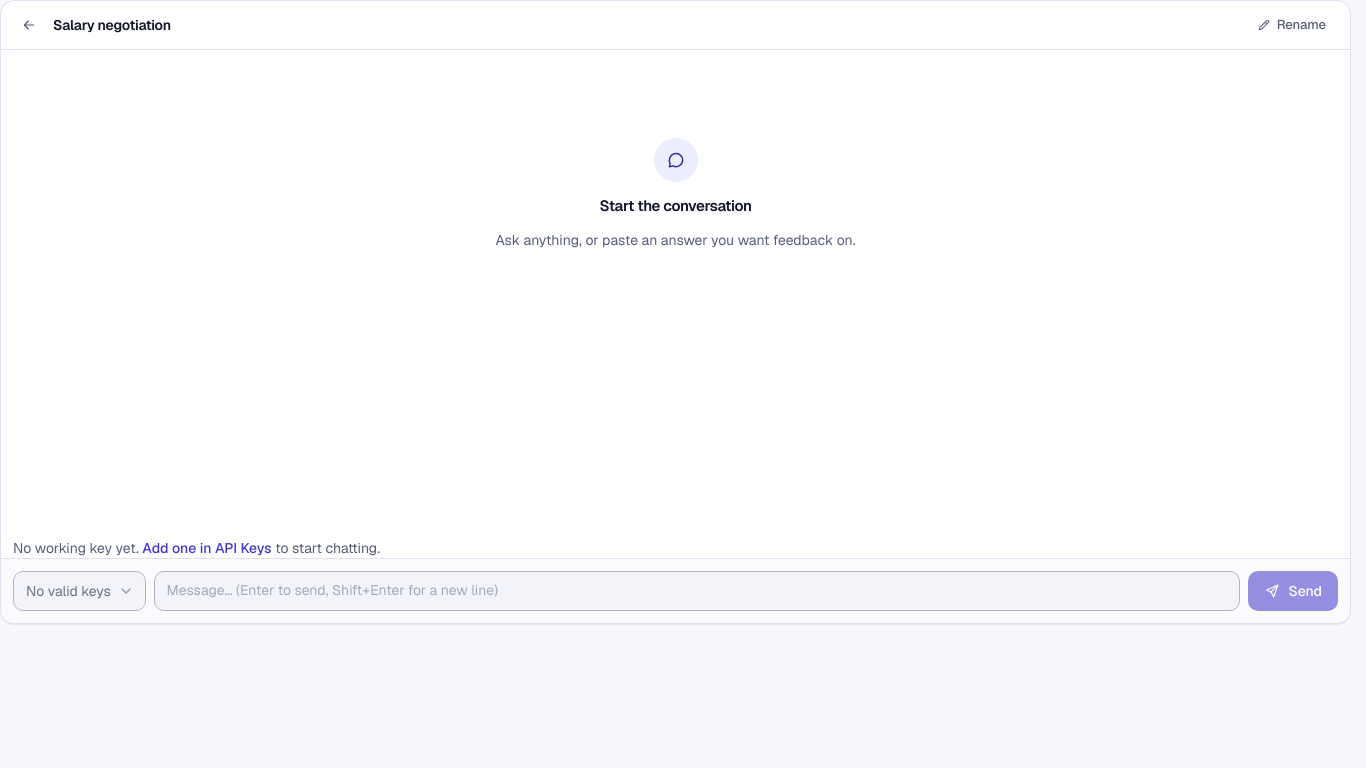
Test: ChatThreadView rename › keeps the old title and shows the error when renaming fails
Click the button with aria-label "Rename this chat" at (1291, 25), box x1=1245 y1=9 x2=1338 y2=41
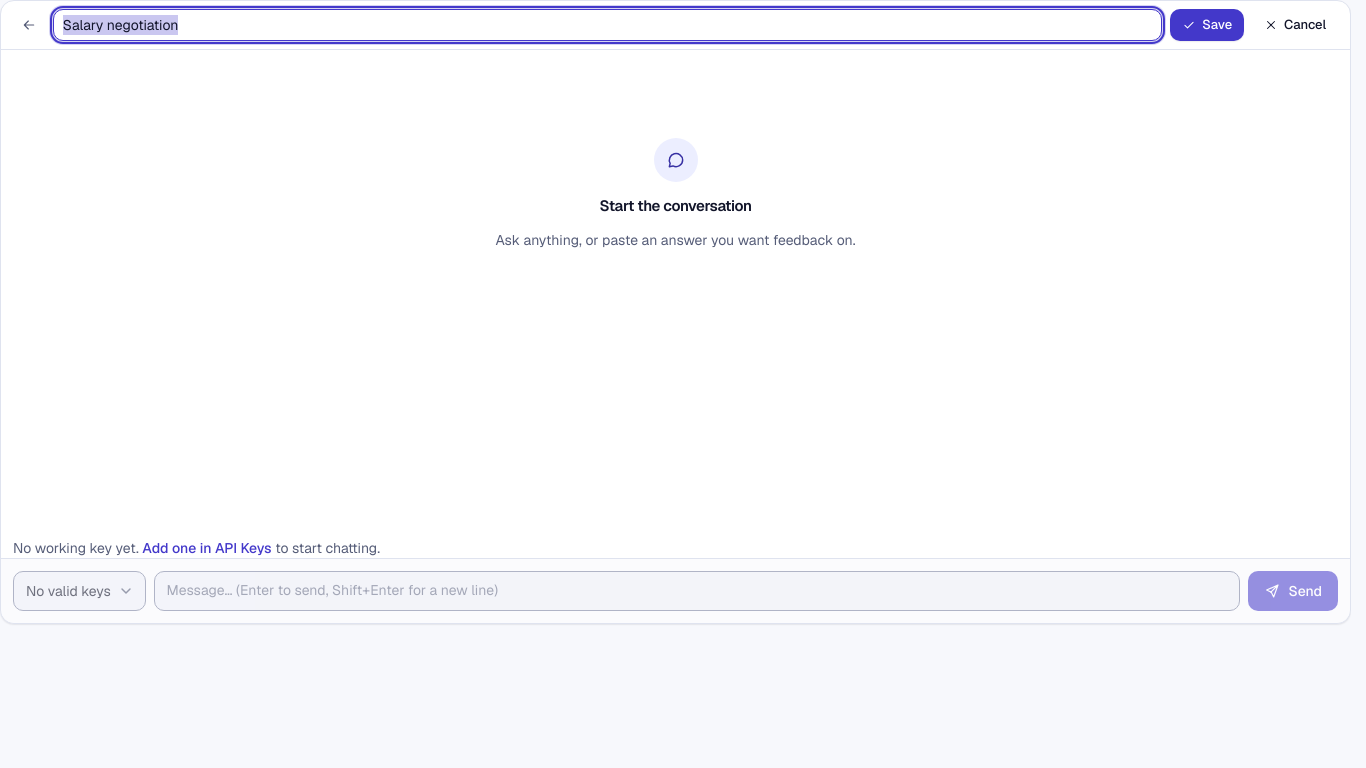
Type "x" into the field named "New title for this chat" at (608, 25), box x1=53 y1=9 x2=1162 y2=41
Then press Enter
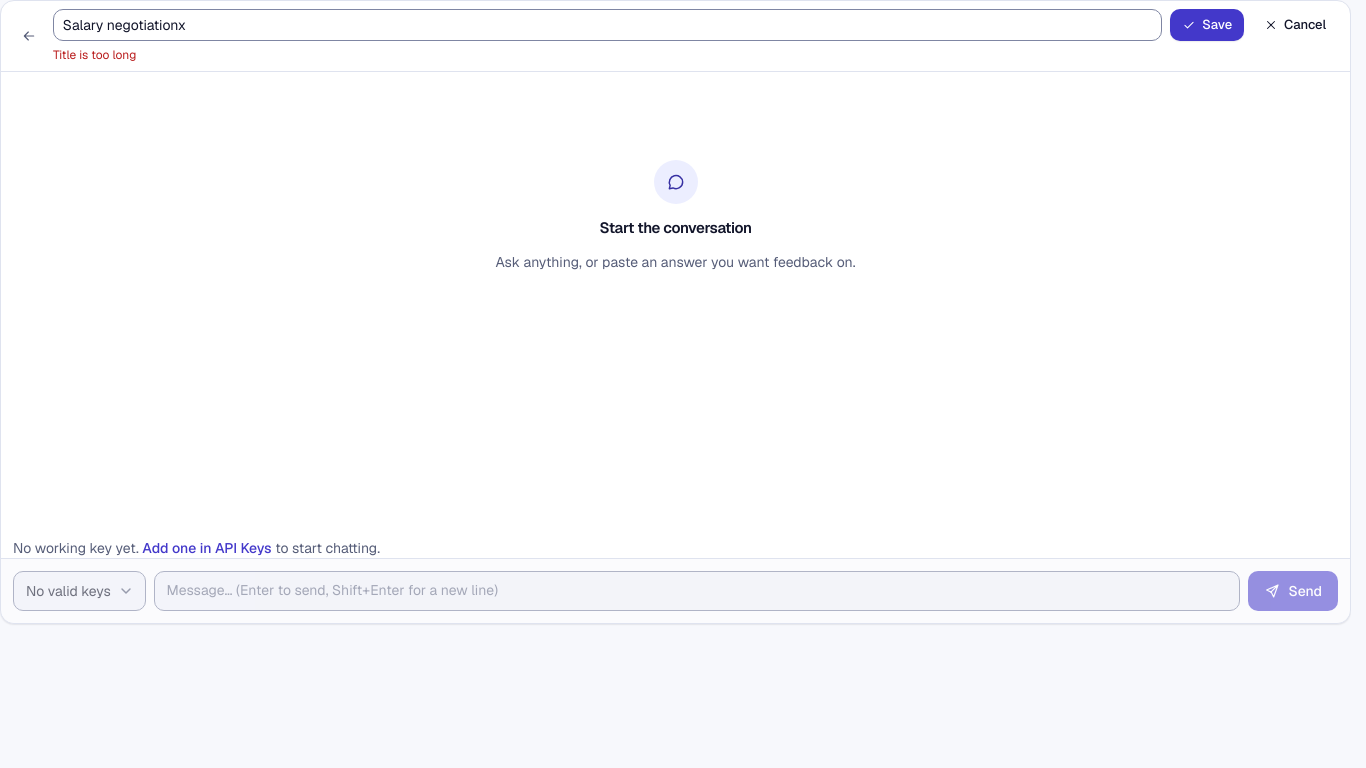
expect the message reads "Title is too long": met, box x1=53 y1=47 x2=136 y2=63
Click the button with aria-label "Cancel rename" at (1295, 25), box x1=1252 y1=9 x2=1338 y2=41
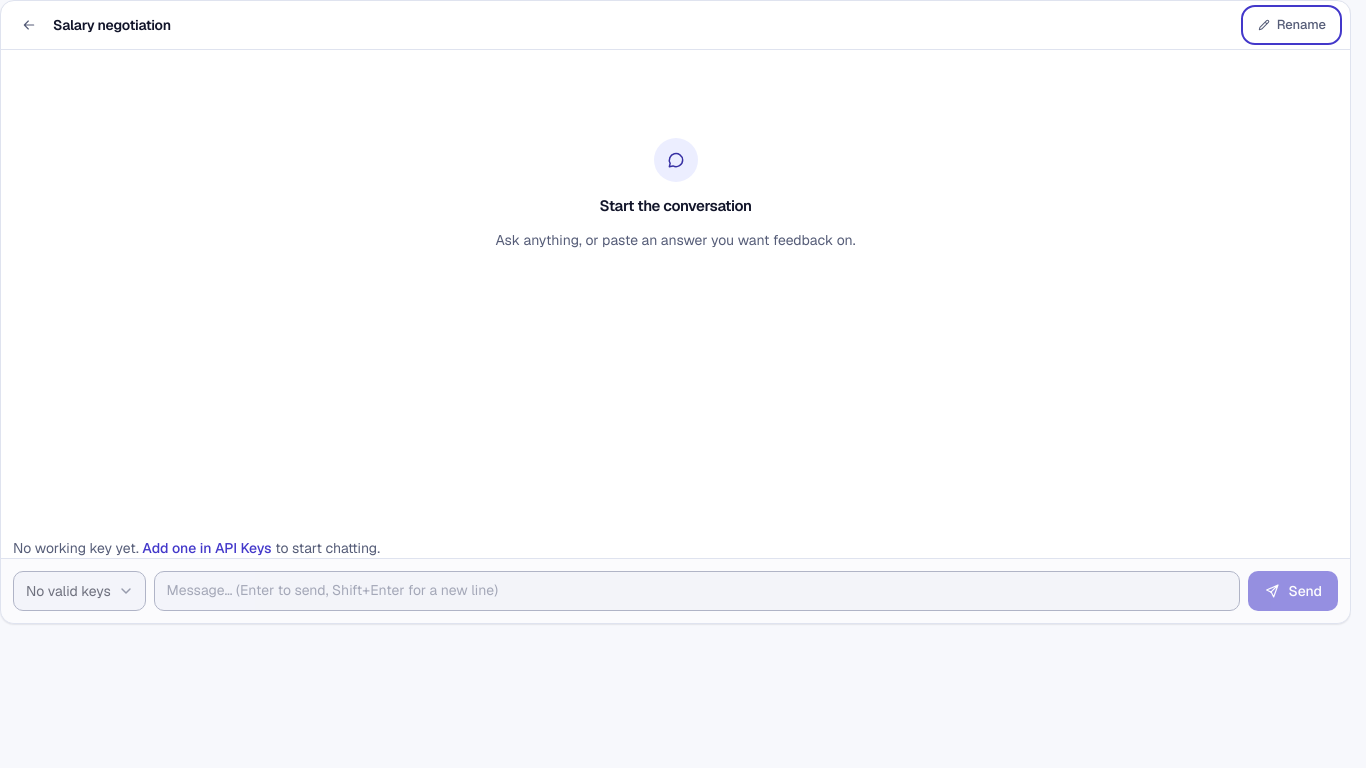
expect the heading "Salary negotiation" is shown: met, box x1=53 y1=16 x2=171 y2=34
